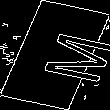M_W: (10, 26, 100, 84)
